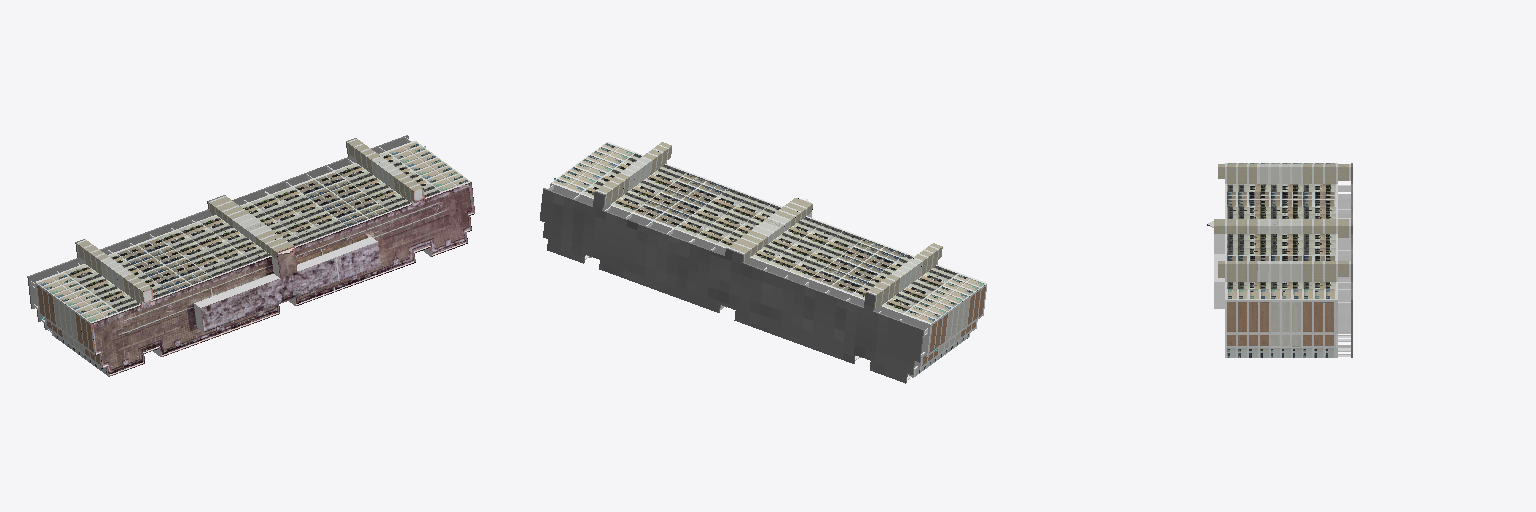
3 views of the same model, side by side, from view 1: azimuth 30°, elevation 25°; view 2: azimuth 150°, elevation 25°; view 3: azimuth 270°, elevation 25° (orthographic).
Visible parts, largest first — view 1: polygon.830; view 2: polygon.830; view 3: polygon.830.
Boxes of the visible parts, box(x1,y1,x2,y2) form: polygon.830: box(27, 135, 474, 376); polygon.830: box(540, 142, 986, 383); polygon.830: box(1207, 163, 1352, 357).
Bounding box in the file's own units: 110 × 31.89 × 36.49.
1 materials, 1 textured.